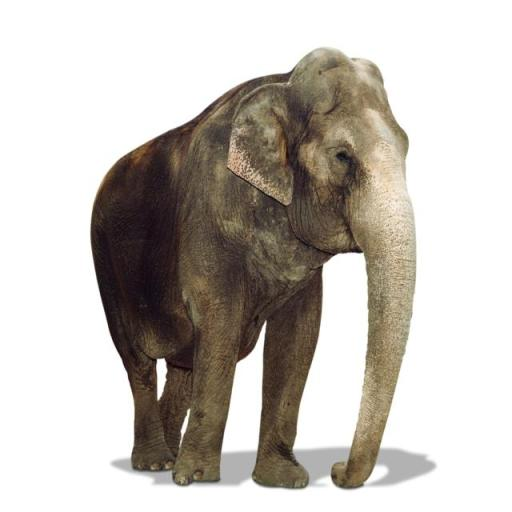Elephant: (89, 45, 417, 489)
